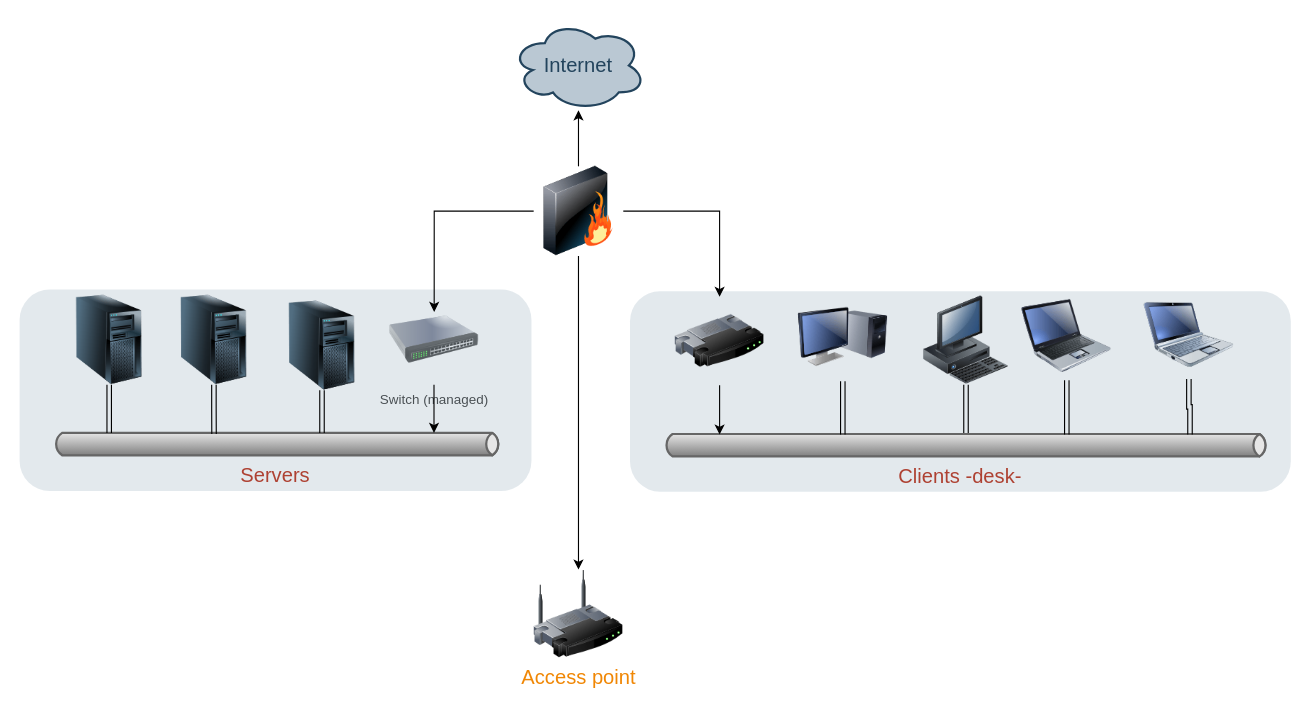
The diagram is 1309 pixels wide and 710 high, and some of its shapes have lost their labels. Here are the shapes that lost their labels. From the top down, the box of each, then its label:
(533, 166, 623, 255): Firewall
(674, 296, 764, 385): Switch (unmanaged)
